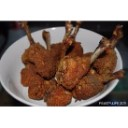chicken_lollipop: (58, 38, 101, 88), (19, 20, 55, 77), (40, 20, 89, 57), (74, 68, 125, 99), (25, 77, 74, 108)
